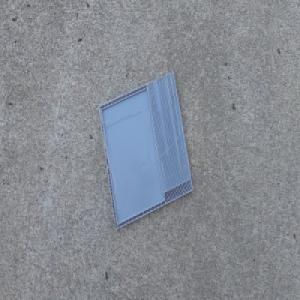PlasticPart: (97, 70, 194, 232)
